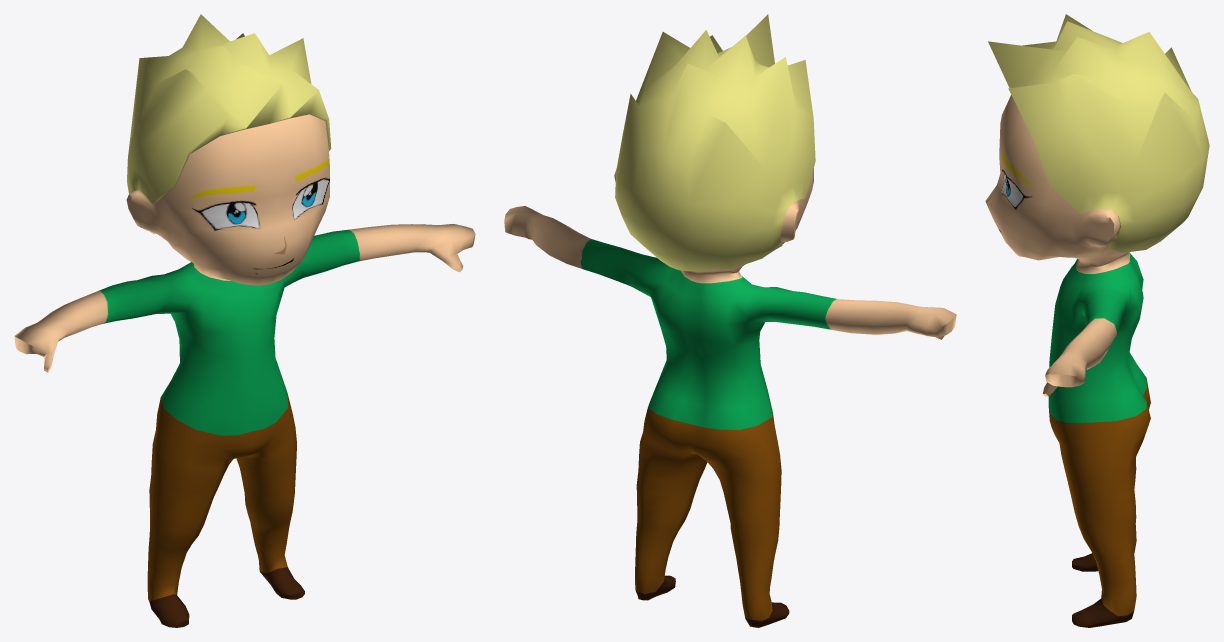
File: Kaseem.fbx
3 renders of one model, left to right at view 1: azimuth 30°, elevation 25°; view 2: azimuth 150°, elevation 25°; view 3: azimuth 270°, elevation 25°, orthographic.
Visible parts, largest first — view 1: chibiBaseMesh:Chibi_basemesh; view 2: chibiBaseMesh:Chibi_basemesh; view 3: chibiBaseMesh:Chibi_basemesh.
Part boxes in pixels (x1,y1,x2,y2): chibiBaseMesh:Chibi_basemesh: (14,14,475,627); chibiBaseMesh:Chibi_basemesh: (504,14,956,627); chibiBaseMesh:Chibi_basemesh: (985,14,1209,627).
Size of the model in its own units: 22.54 by 27.37 by 9.81.
